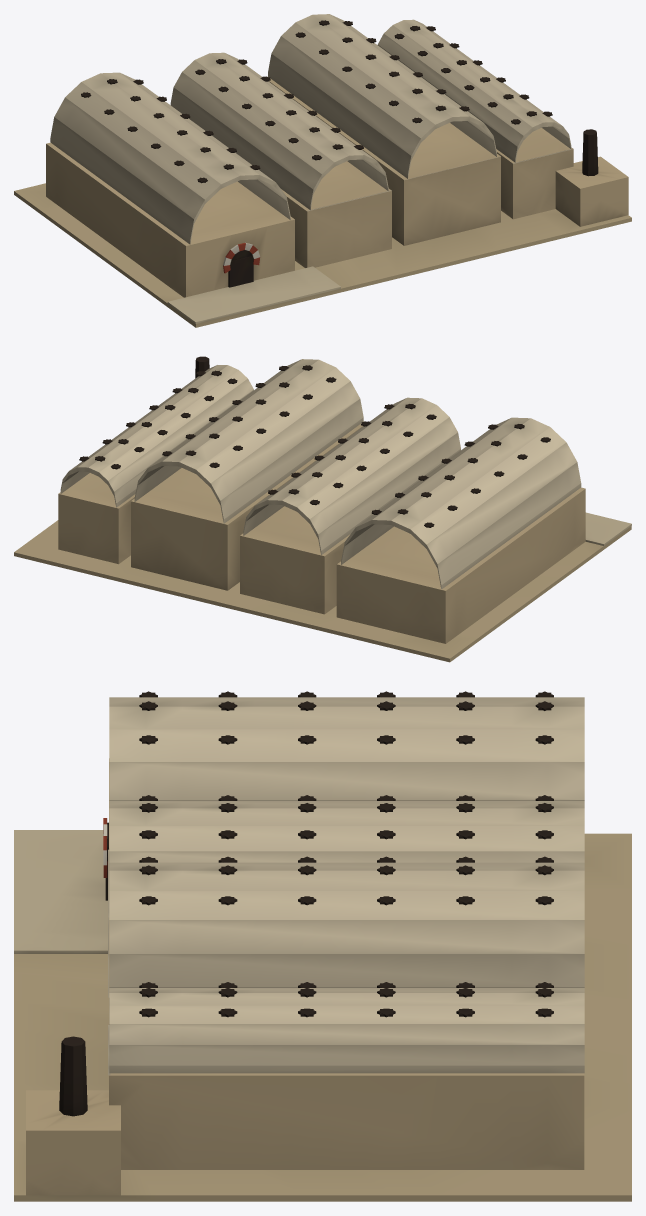
The model's file is caliphal-baths.glb.
The picture shows the model from 3 angles, top to bottom: view 1: azimuth 30°, elevation 25°; view 2: azimuth 150°, elevation 25°; view 3: azimuth 270°, elevation 25°; orthographic projection. The views are drawn at different scales.
Visible parts, largest first — view 1: p0_walls, p1_vaults, p2_skylights; view 2: p1_vaults, p0_walls, p2_skylights; view 3: p1_vaults, p0_walls, p2_skylights.
Boxes of the visible parts, x1,y1,x2,y2 form: p0_walls: (14, 78, 631, 327); p1_vaults: (50, 14, 573, 287); p2_skylights: (81, 20, 598, 183); p1_vaults: (60, 359, 581, 589); p0_walls: (14, 421, 631, 662); p2_skylights: (79, 356, 550, 527); p1_vaults: (103, 697, 584, 1075); p0_walls: (14, 758, 631, 1201); p2_skylights: (59, 691, 553, 1116).
Bounding box in the file's own units: 36.03 × 9.6 × 26.
